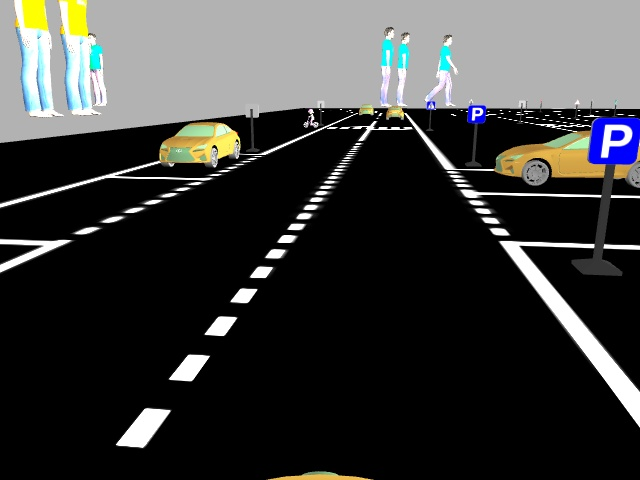Parking: (586, 114, 639, 165), (464, 102, 488, 124)
